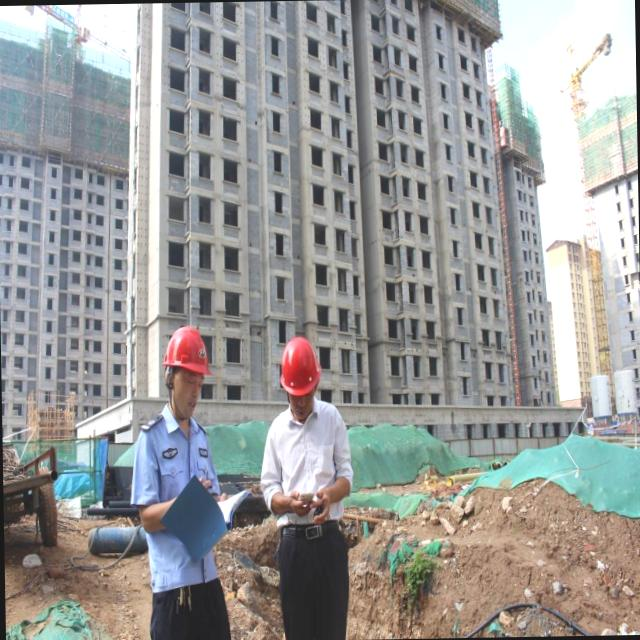helmet: (278, 337, 320, 401), (164, 327, 210, 373)
no-goggles: (172, 372, 206, 393)
no-vest: (142, 414, 214, 564), (276, 403, 339, 519)
